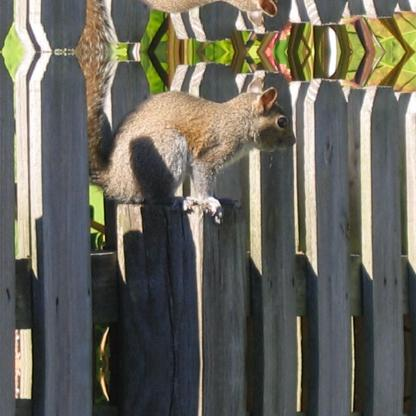Squirrel: (73, 52, 297, 224), (73, 0, 298, 53)
